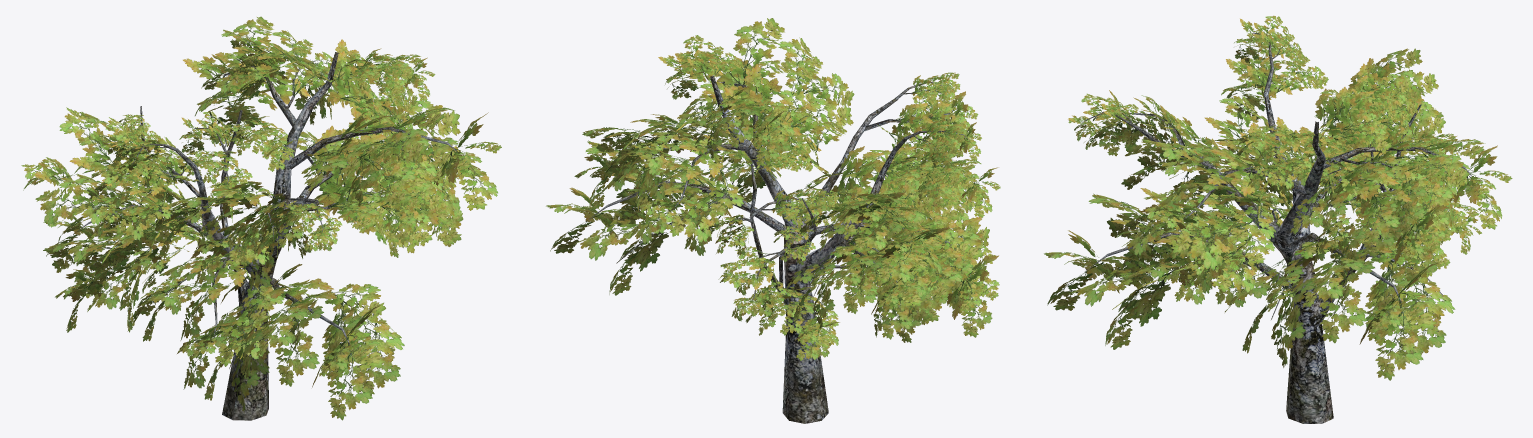
Rendered from oak_tree.glb.
The picture shows the model from 3 angles, left to right: view 1: azimuth 30°, elevation 25°; view 2: azimuth 150°, elevation 25°; view 3: azimuth 270°, elevation 25°; orthographic projection. The views are drawn at different scales.
Parts seen in each view (by area): view 1: tree_oak_joined; view 2: tree_oak_joined; view 3: tree_oak_joined.
Boxes of the visible parts, x1,y1,x2,y2 form: tree_oak_joined: (21,16,501,420); tree_oak_joined: (546,18,1000,423); tree_oak_joined: (1044,15,1512,423).
Bounding box in the file's own units: 2.85 × 2.18 × 2.68.
2 materials, 2 textured.
